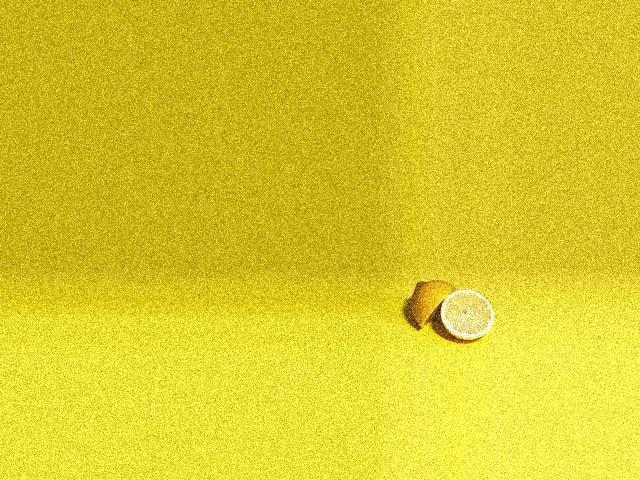lemon: (408, 279, 458, 334)
